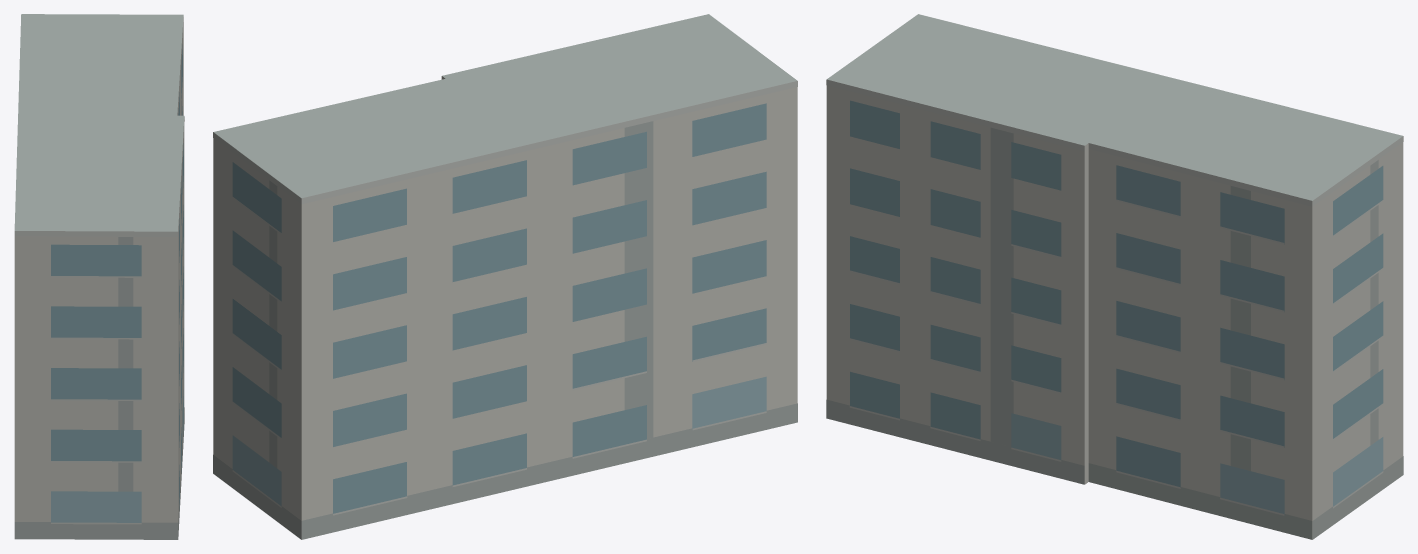
Rendered from survey-upis-32871176.glb.
3 renders of one model, left to right at view 1: azimuth 30°, elevation 25°; view 2: azimuth 150°, elevation 25°; view 3: azimuth 270°, elevation 25°, orthographic. The views are drawn at different scales.
Visible parts, largest first — view 1: survey-upis-32871176.tmp; view 2: survey-upis-32871176.tmp; view 3: survey-upis-32871176.tmp.
Part boxes in pixels (box(x1,y1,x2,y2)): survey-upis-32871176.tmp: box(14, 14, 184, 539); survey-upis-32871176.tmp: box(213, 14, 797, 539); survey-upis-32871176.tmp: box(826, 14, 1403, 539).
Size of the model in its own units: 16.33 by 13.8 by 21.29.
